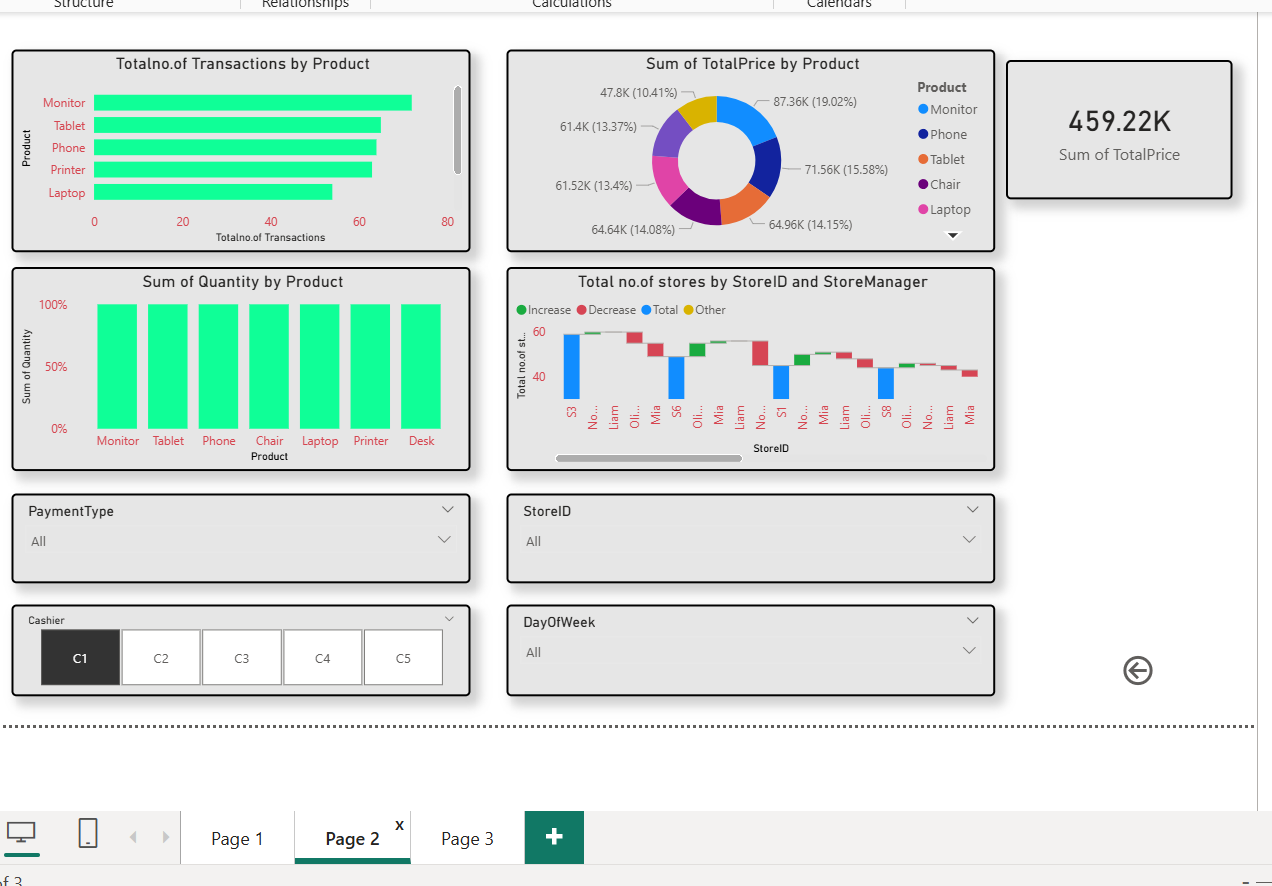

This screenshot's page, from the dashboard's own definition file:
{"tool":"powerbi","page":{"name":"Page 2","canvas":[1280,720],"ordinal":1},"visuals":[{"type":"clusteredBarChart","fields":{"Category":["Sheet1.Product"],"Y":["Sheet1.Totalno.of Transactions"]},"box":[22.7,37.9,463.3,204.4],"z":0},{"type":"hundredPercentStackedColumnChart","fields":{"Category":["Sheet1.Product"],"Y":["Sum(Sheet1.Quantity)"]},"box":[22.7,257.4,463.3,205.9],"z":1000},{"type":"donutChart","fields":{"Category":["Sheet1.Product"],"Y":["Sum(Sheet1.TotalPrice)"]},"box":[522.4,37.9,493.6,204.4],"z":2000},{"type":"waterfallChart","fields":{"Category":["Sheet1.StoreID"],"Breakdown":["Sheet1.StoreManager"],"Y":["Sheet1.Total no.of stores"]},"box":[522.4,257.4,493.6,205.9],"z":3000},{"type":"slicer","fields":{"Values":["Sheet1.PaymentType"]},"box":[22.7,486.1,463.3,90.9],"z":4000},{"type":"slicer","fields":{"Values":["Sheet1.Cashier"]},"box":[22.7,598.1,463.3,92.4],"z":5000},{"type":"slicer","fields":{"Values":["Sheet1.StoreID"]},"box":[522.4,486.1,493.6,90.9],"z":6000},{"type":"slicer","fields":{"Values":["Sheet1.DayOfWeek"]},"box":[522.4,598.1,493.6,92.4],"z":7000},{"type":"card","fields":{"Values":["Sum(Sheet1.TotalPrice)"]},"box":[1026.6,48.5,228.6,140.8],"z":8000},{"type":"actionButton","box":[1140.2,645.1,45.4,39.4],"z":9000}]}

Visuals, with their boxes in screenshot pixels (x1, y1, x2, y2):
clusteredBarChart - Sheet1.Product x Sheet1.Totalno.of Transactions: box=[12, 50, 466, 251]
hundredPercentStackedColumnChart - Sheet1.Product x Sum(Sheet1.Quantity): box=[12, 266, 466, 467]
donutChart - Sheet1.Product x Sum(Sheet1.TotalPrice): box=[502, 50, 986, 251]
waterfallChart - Sheet1.StoreID x Sheet1.StoreManager: box=[502, 266, 986, 467]
slicer - Sheet1.PaymentType: box=[12, 490, 466, 579]
slicer - Sheet1.Cashier: box=[12, 599, 466, 690]
slicer - Sheet1.StoreID: box=[502, 490, 986, 579]
slicer - Sheet1.DayOfWeek: box=[502, 599, 986, 690]
card - Sum(Sheet1.TotalPrice): box=[996, 61, 1220, 199]
actionButton: box=[1107, 645, 1152, 684]
